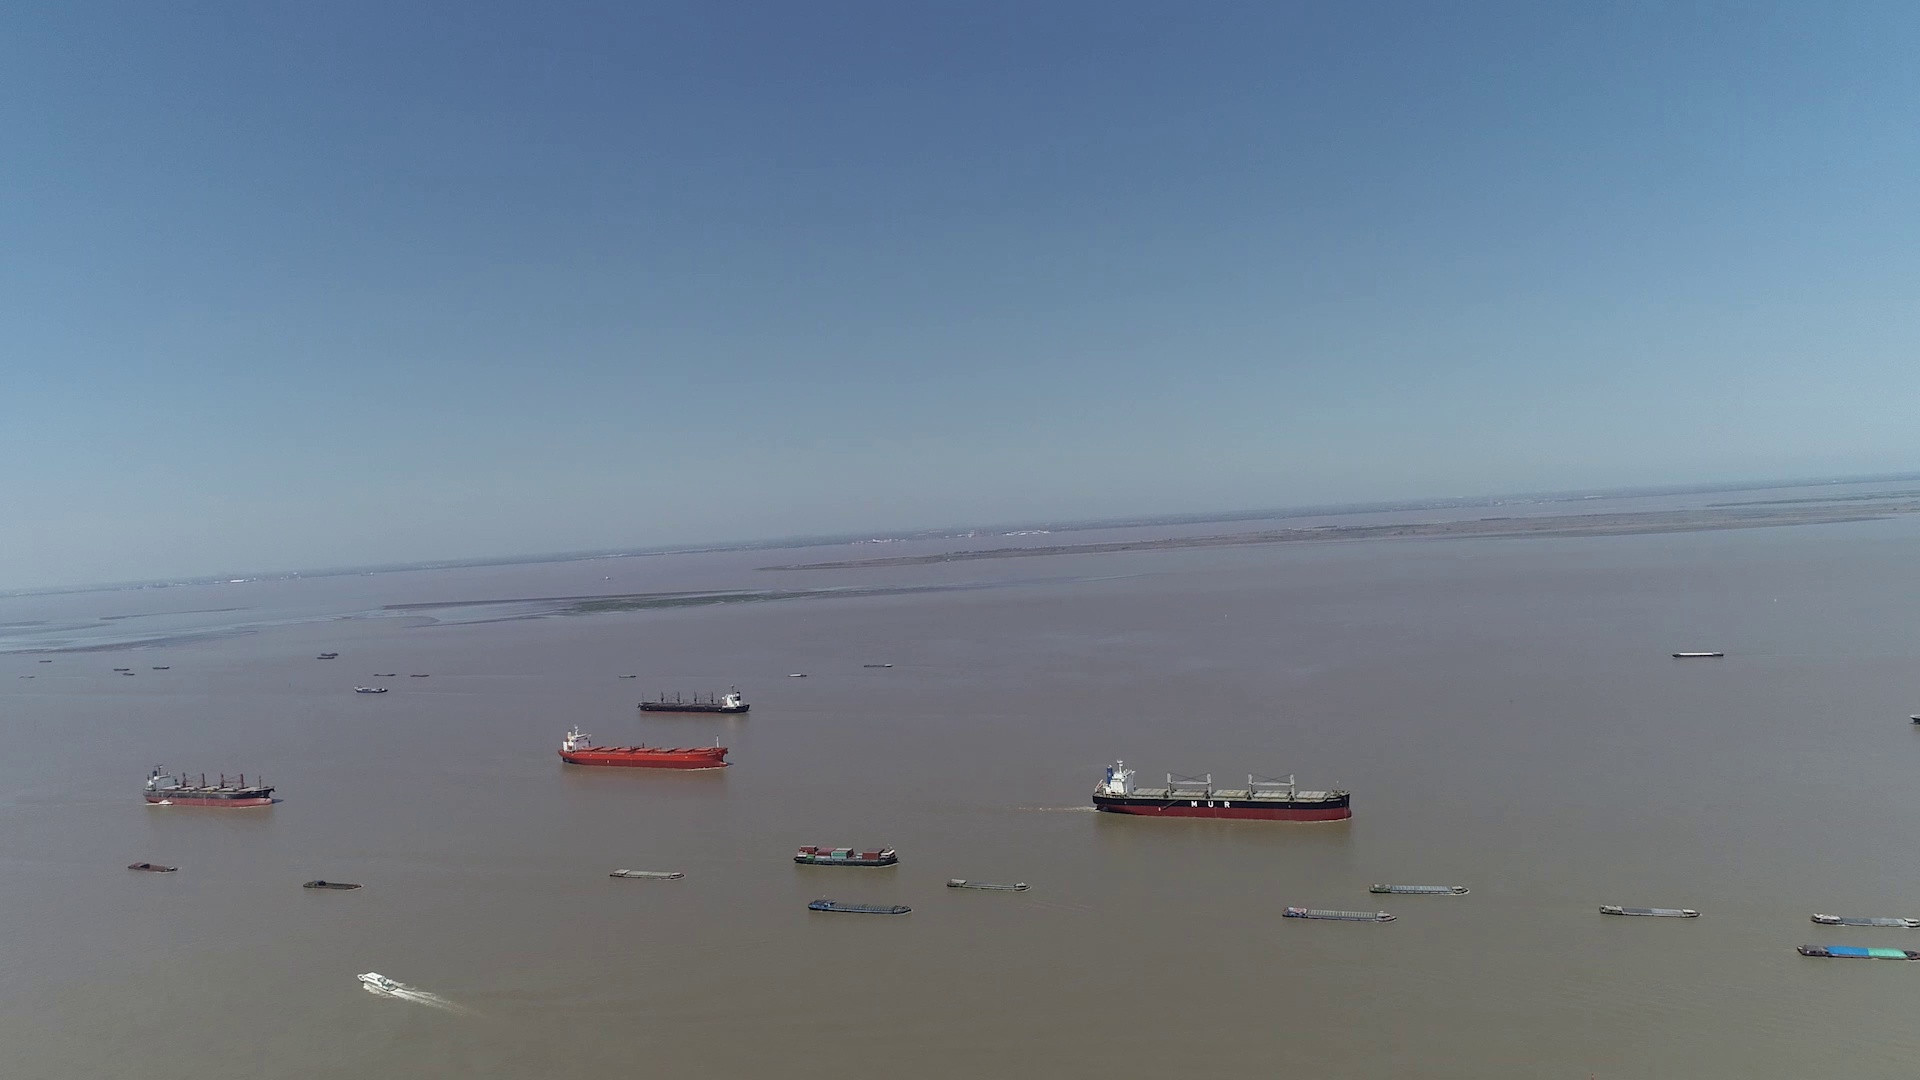ship: (1091, 756, 1352, 822), (558, 727, 727, 771), (144, 764, 276, 807), (640, 688, 750, 713), (793, 844, 899, 869), (1793, 942, 1919, 961), (1812, 910, 1919, 930), (807, 898, 913, 916), (1284, 905, 1396, 922), (1600, 902, 1700, 919), (359, 971, 425, 996), (1367, 880, 1466, 895), (947, 876, 1030, 891), (611, 866, 684, 880), (302, 880, 363, 890), (128, 861, 175, 873), (1672, 650, 1724, 658), (352, 684, 389, 694)
